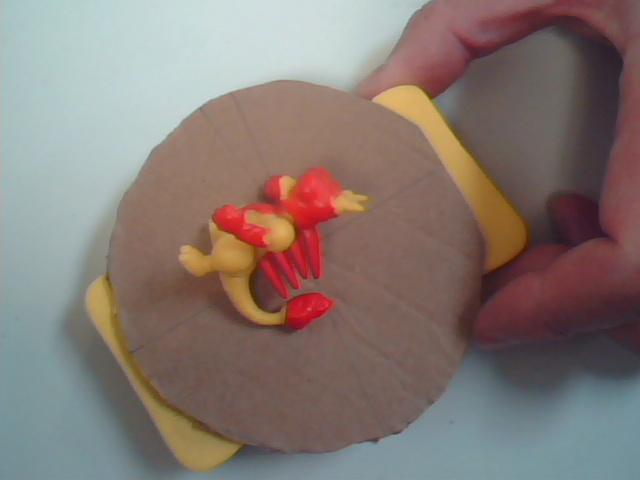magmar: (173, 153, 403, 364)
